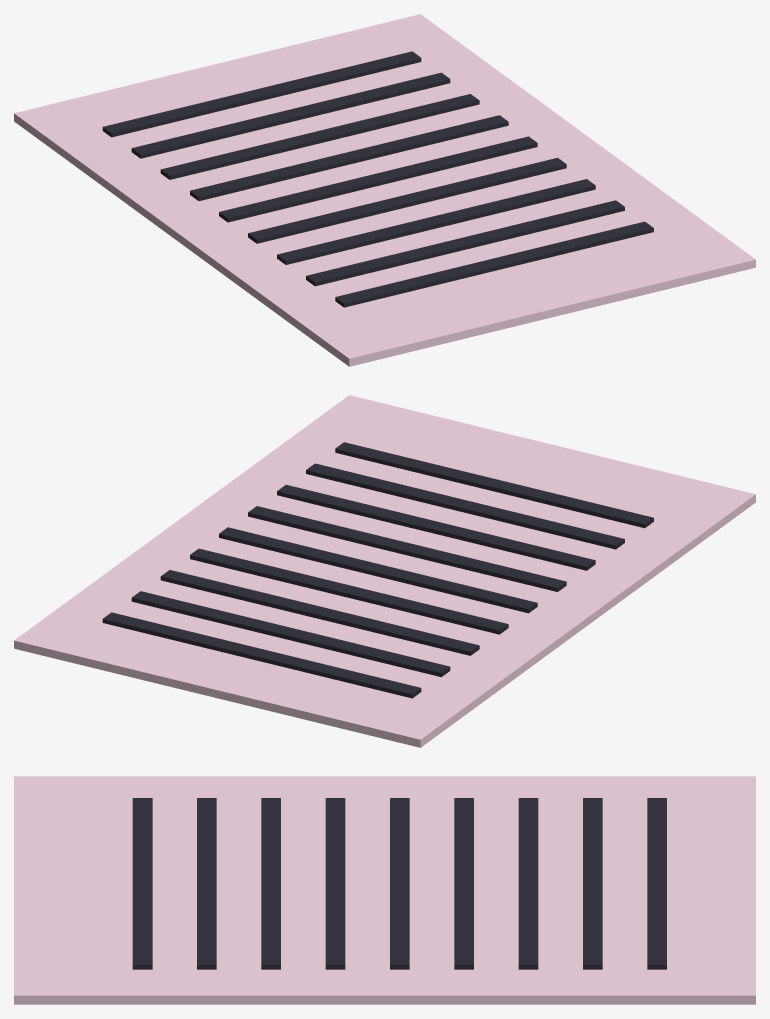
File: smoke_clients.glb
3 views of the same model, one above another, from view 1: azimuth 30°, elevation 25°; view 2: azimuth 150°, elevation 25°; view 3: azimuth 270°, elevation 25° (orthographic). The views are drawn at different scales.
Parts seen in each view (by area): view 1: sheet_smoke_paper, rows_ink (×9); view 2: sheet_smoke_paper, rows_ink (×9); view 3: sheet_smoke_paper, rows_ink (×9).
Part boxes in pixels (bbox=[...]): sheet_smoke_paper: bbox=[14, 14, 755, 366]; rows_ink (×9): bbox=[102, 51, 653, 307]; sheet_smoke_paper: bbox=[14, 395, 755, 747]; rows_ink (×9): bbox=[102, 442, 653, 698]; sheet_smoke_paper: bbox=[14, 776, 755, 1004]; rows_ink (×9): bbox=[132, 798, 666, 969].
Bounding box in the file's own units: 0.21 × 0.006 × 0.3.
